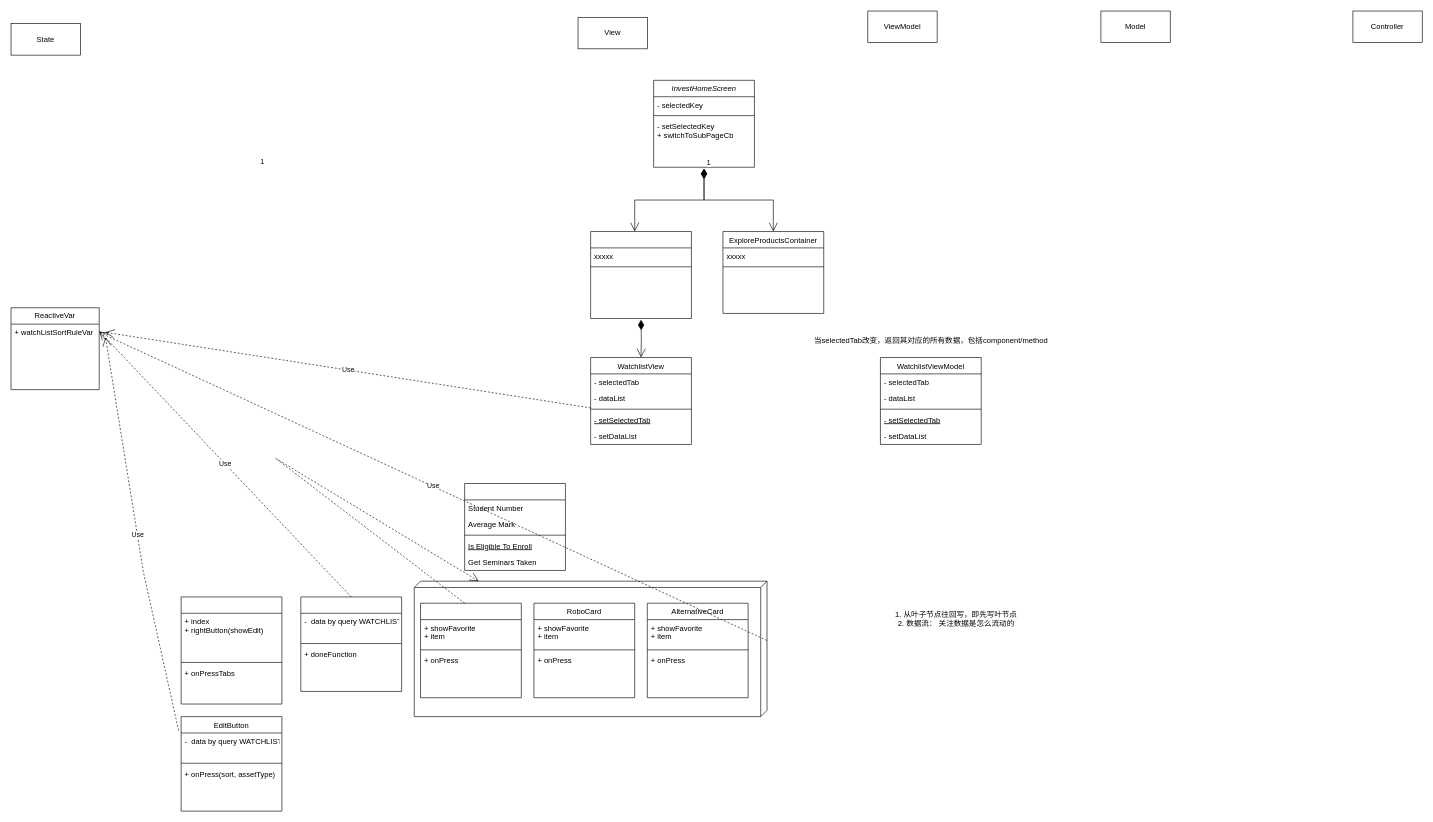
This 1433x822 diagram has some shape labels left out. Here are the shapes that lost their labels. From the top down, the box of each, then its label:
(590, 231, 691, 318): WatchListContainer
(464, 483, 565, 570): List
(180, 596, 282, 704): ScrollTabsWithoutTabs
(300, 596, 402, 691): WatchlistSortButton
(420, 603, 521, 698): WatchlistCard
(414, 581, 767, 717): Block
